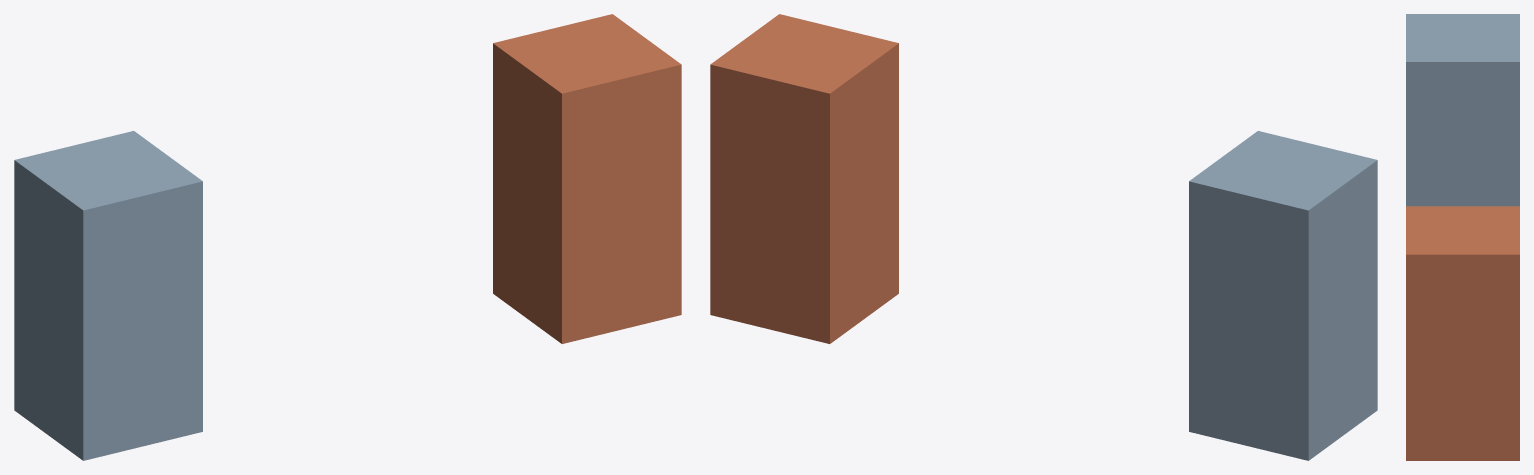
File: original.glb
The picture shows the model from 3 angles, left to right: view 1: azimuth 30°, elevation 25°; view 2: azimuth 150°, elevation 25°; view 3: azimuth 270°, elevation 25°; orthographic projection. The views are drawn at different scales.
Visible parts, largest first — view 1: original shell, original accessory; view 2: original shell, original accessory; view 3: original accessory, original shell.
Part boxes in pixels (x1,y1,x2,y2): original shell: (14,131,202,460); original accessory: (493,14,681,343); original shell: (1189,131,1377,460); original accessory: (710,14,898,343); original accessory: (1406,206,1519,460); original shell: (1406,14,1519,206).
Bounding box in the file's own units: 5 × 2 × 1.
